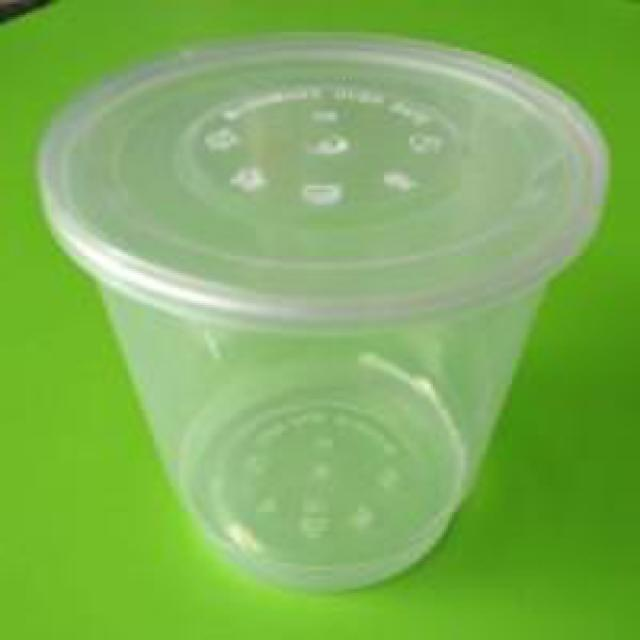plastic cup: (30, 30, 619, 604)
